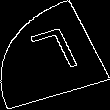L_S: (25, 26, 85, 84)
